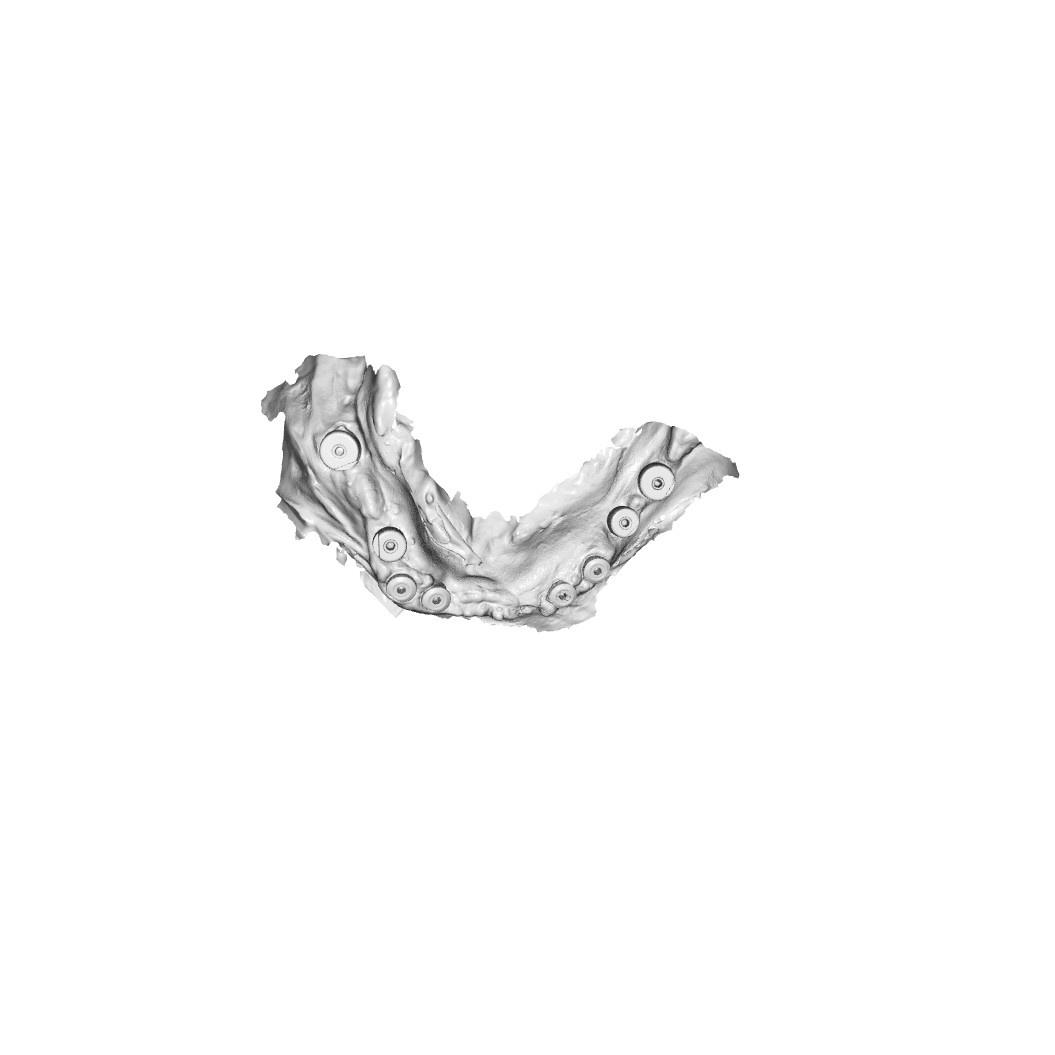implant: (320, 424, 363, 478), (639, 463, 678, 501), (373, 525, 410, 564), (609, 504, 648, 540), (387, 573, 415, 605), (583, 555, 613, 584), (423, 583, 451, 614)
implant_minus: (543, 577, 580, 614)
